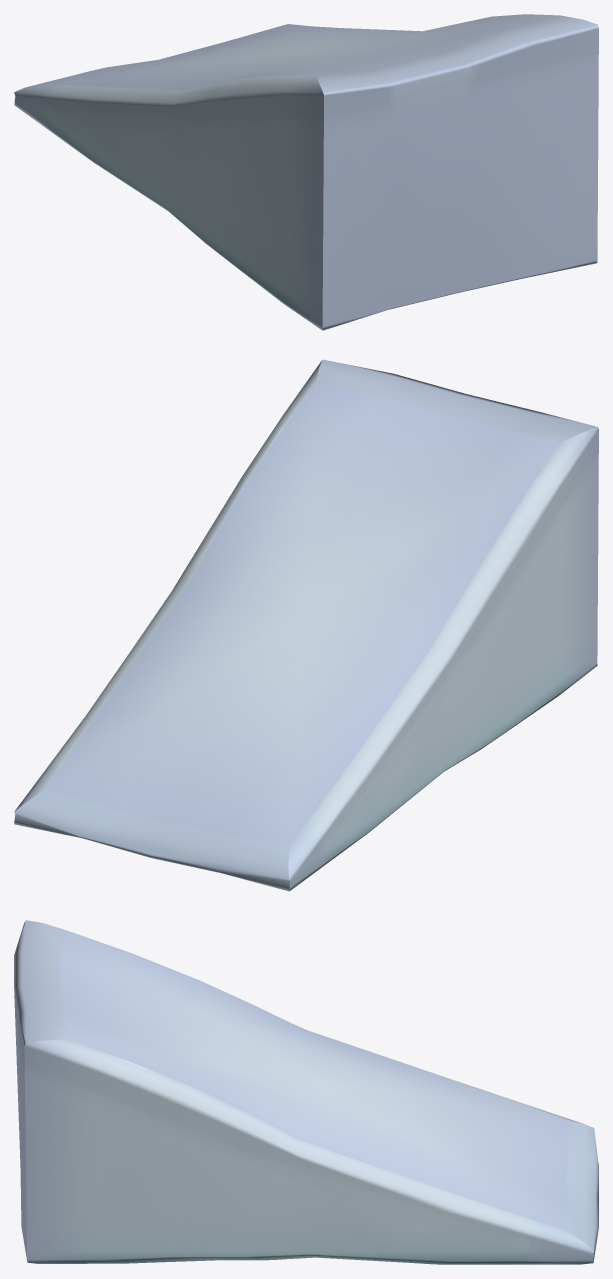
File: MOD_Slope.fbx
3 views of the same model, one above another, from view 1: azimuth 30°, elevation 25°; view 2: azimuth 150°, elevation 25°; view 3: azimuth 270°, elevation 25° (orthographic). The views are drawn at different scales.
Parts seen in each view (by area): view 1: MOD_Slope; view 2: MOD_Slope; view 3: MOD_Slope.
Part boxes in pixels (x1=…): MOD_Slope: x1=14, y1=14, x2=598, y2=330; MOD_Slope: x1=14, y1=359, x2=598, y2=891; MOD_Slope: x1=14, y1=920, x2=598, y2=1264.
Bounding box in the file's own units: 1.61 × 1.36 × 3.15.
Materials: 1 (1 with a texture image).
